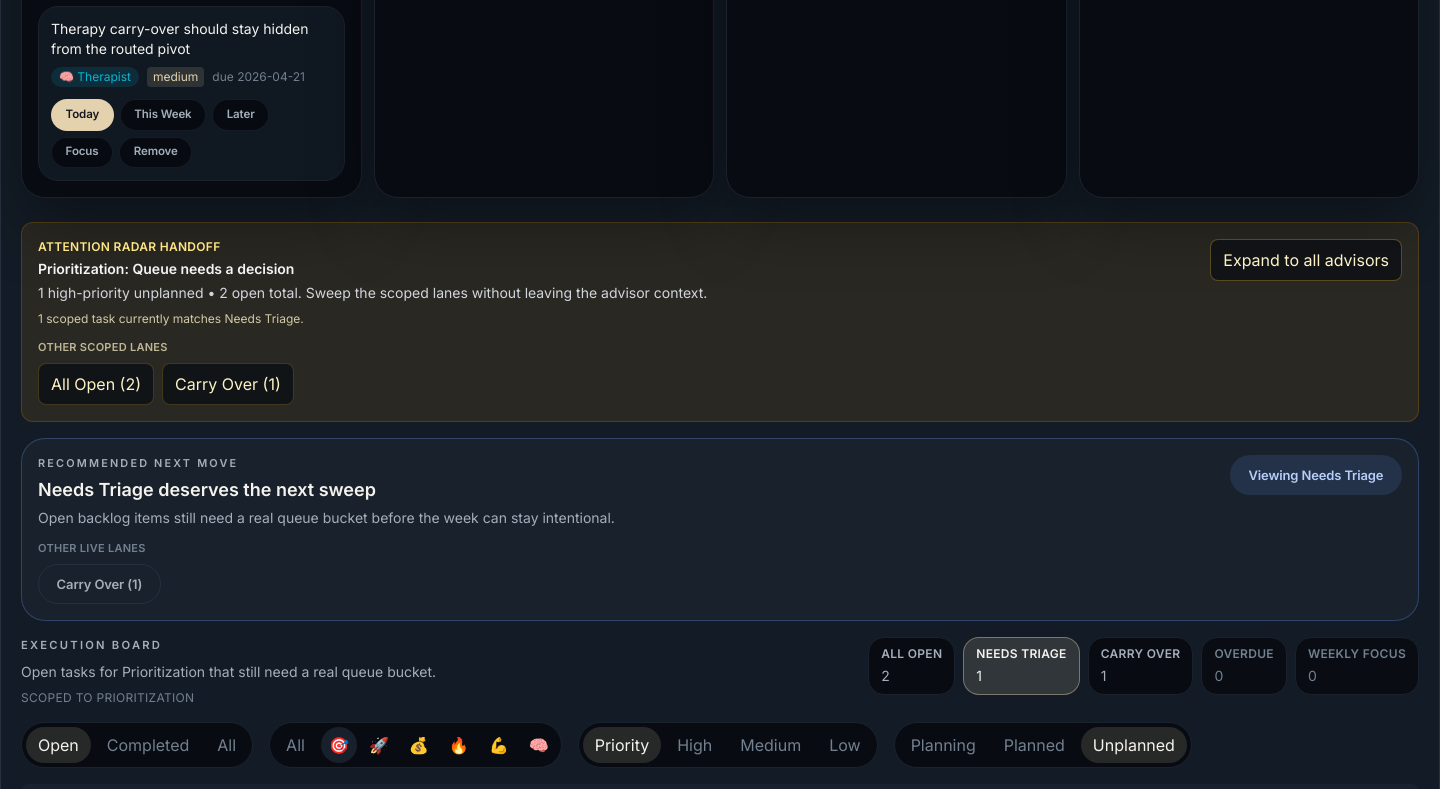
Scenario: TaskDashboard › lets a routed attention handoff pivot into another non-empty scoped planner lane
The width and height of the screenshot is (1440, 789).
(page scrolled)
Click the button with aria-label "Open Carry Over lane" at (228, 384), box [162,363,294,405]
(page scrolled)
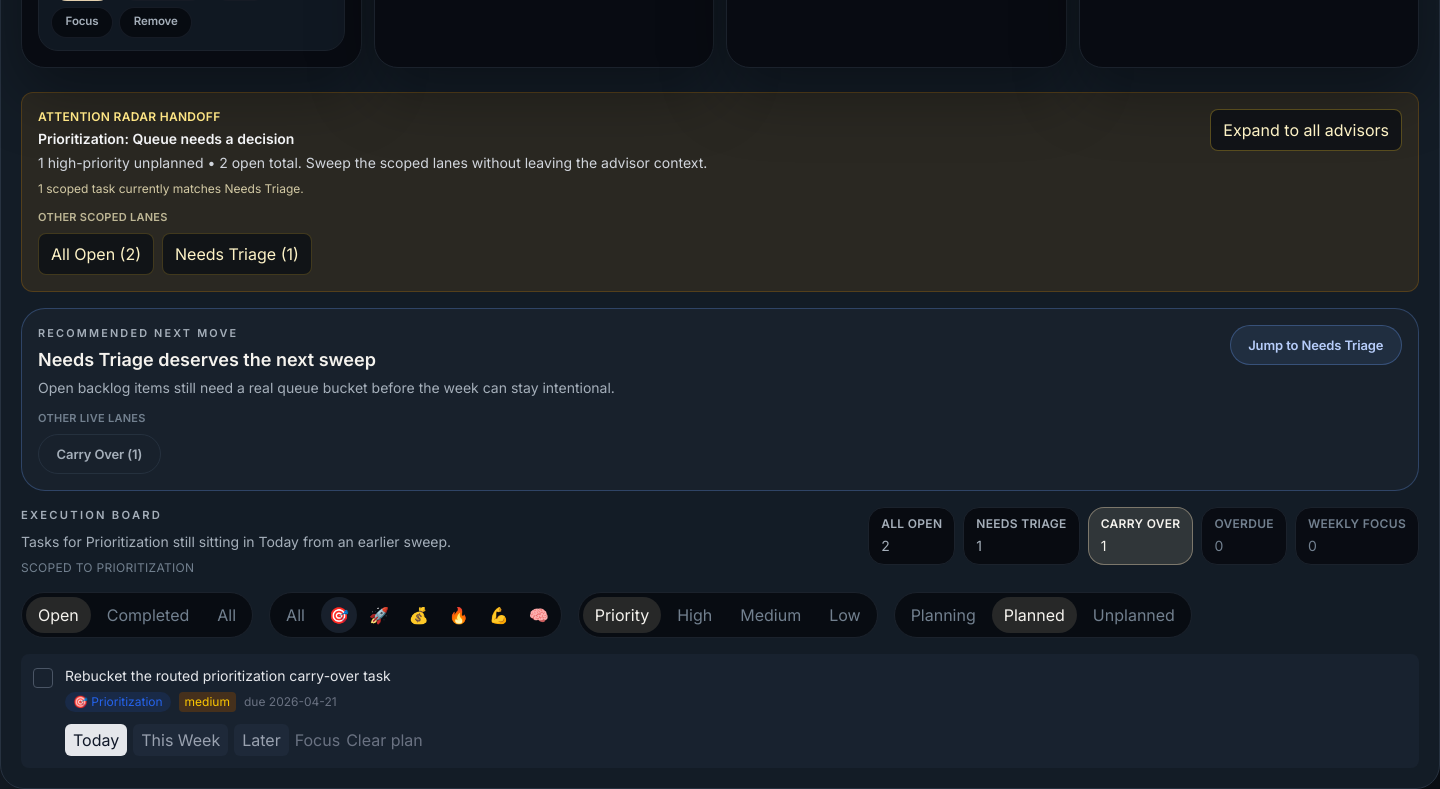
Check: the text "Attention Radar Handoff" is shown, box [38,109,220,124]
Check: the text "Tasks for Prioritization still sitting in Today from an earlier sweep." is shown, box [21,532,451,552]
Check: the text "Rebucket the routed prioritization carry-over task" is shown, box [65,667,391,684]
